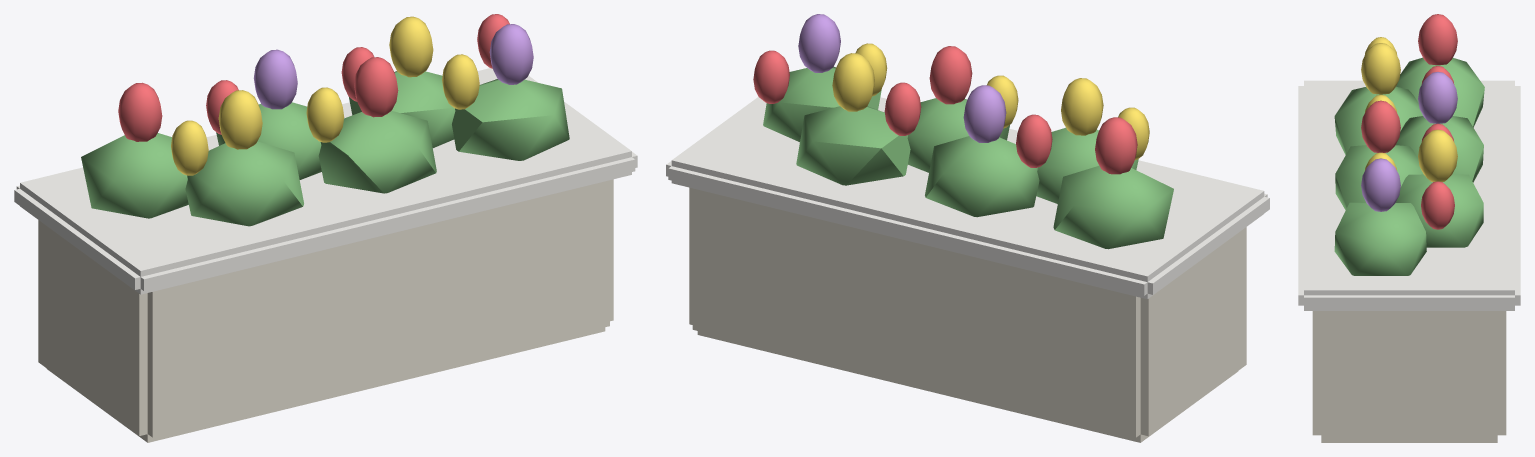
File: OW_FlowerPlanter.fbx
3 renders of one model, left to right at view 1: azimuth 30°, elevation 25°; view 2: azimuth 150°, elevation 25°; view 3: azimuth 270°, elevation 25°, orthographic. The views are drawn at different scales.
Parts seen in each view (by area): view 1: OW_FlowerPlanter; view 2: OW_FlowerPlanter; view 3: OW_FlowerPlanter.
Part boxes in pixels (x1=…): OW_FlowerPlanter: x1=14, y1=14, x2=637, y2=442; OW_FlowerPlanter: x1=666, y1=14, x2=1269, y2=442; OW_FlowerPlanter: x1=1298, y1=14, x2=1520, y2=442.
Size of the model in its own units: 178 by 100 by 78.
